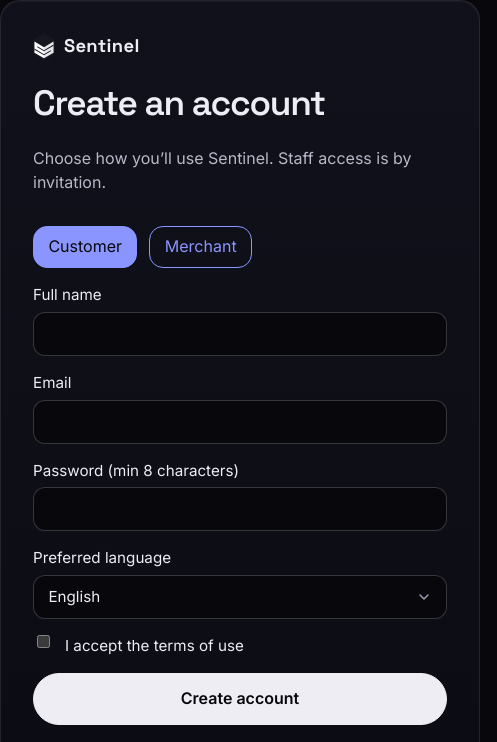
Scenario: public signup › submits customer signup through the corresponding action
This screenshot has width=497, height=742.
Type "New User" into the field labelled "Full name" at (240, 334), box [33,312,447,356]
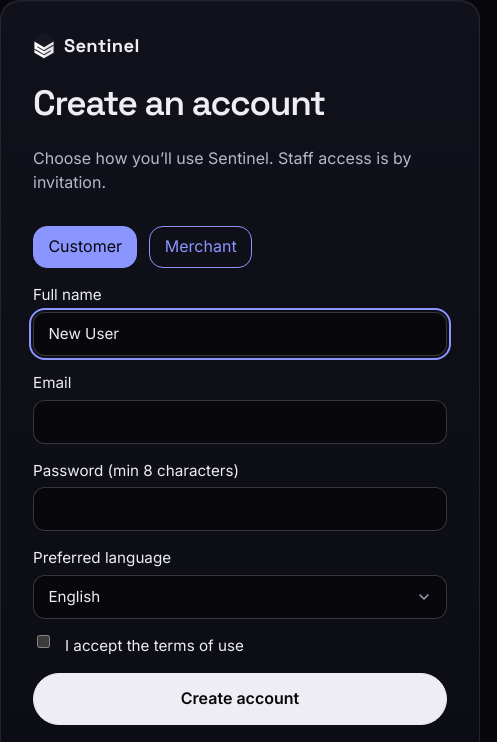
Type "new@example.test" into the field labelled "Email" at (240, 422), box [33,400,447,444]
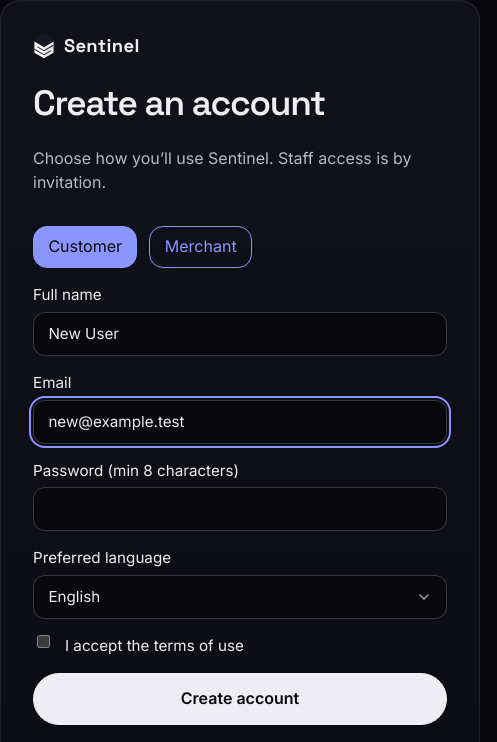
Type "password1" into the password field labelled "Password (min 8 characters)" at (240, 509), box [33,487,447,531]
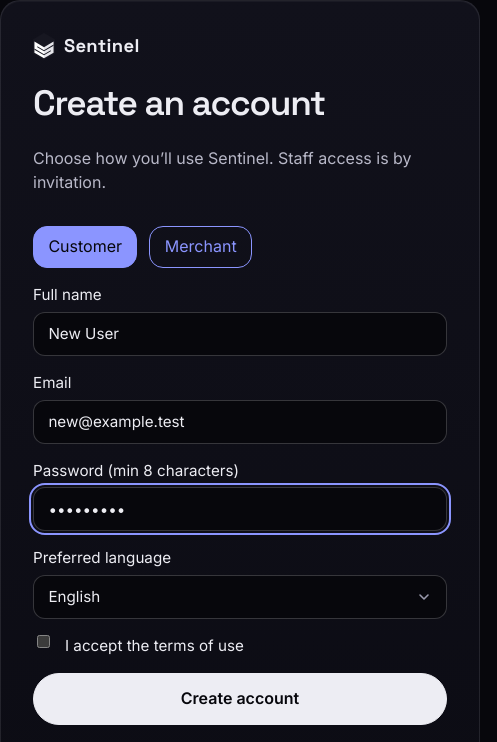
Click the checkbox at (44, 642), box [37,635,50,648]
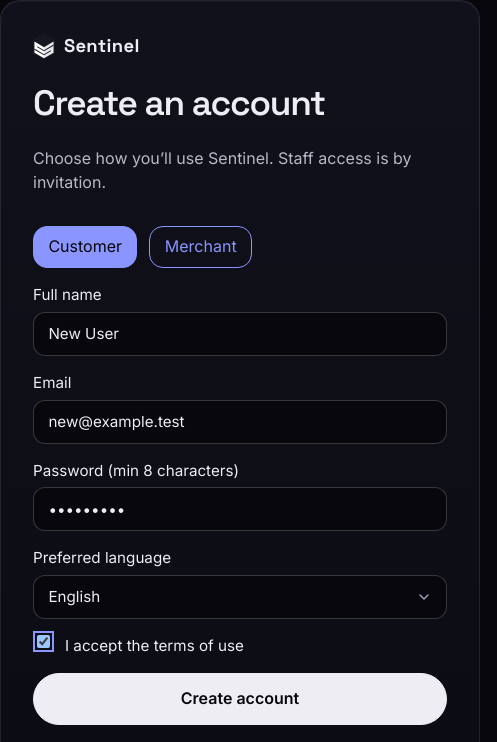
Click the button with test id "register-submit" at (240, 699), box [33,673,447,725]
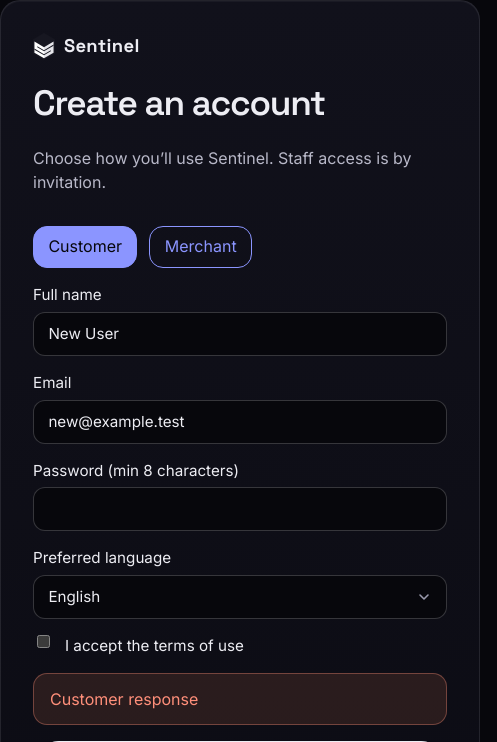
Expected: the message reads "Customer response", [50,689,198,709]
